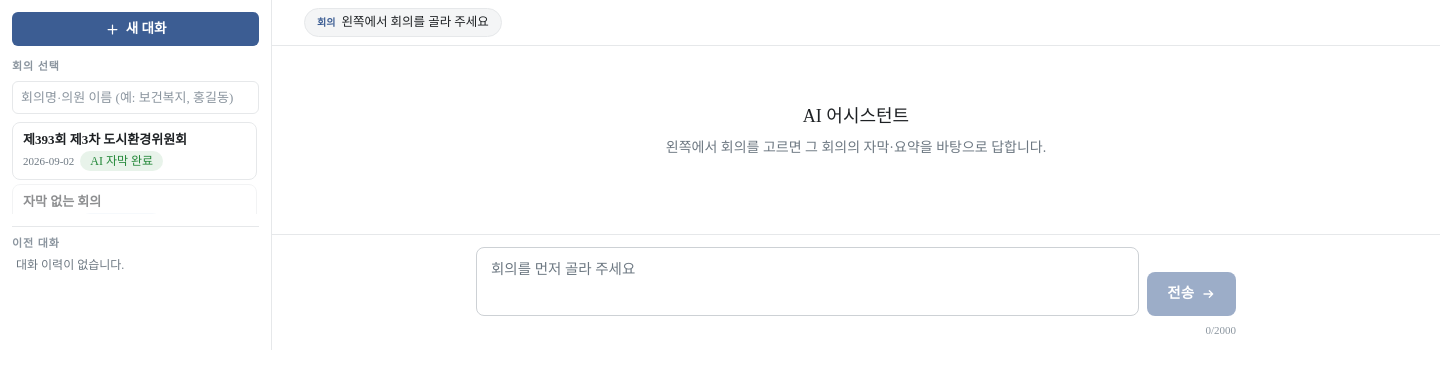
Scenario: AiAssistantPage › selecting a meeting starts a new chat bound to it and shows the brief
Click the text "제393회 제3차 도시환경위원회" at x=105, y=140, box [23, 132, 187, 147]
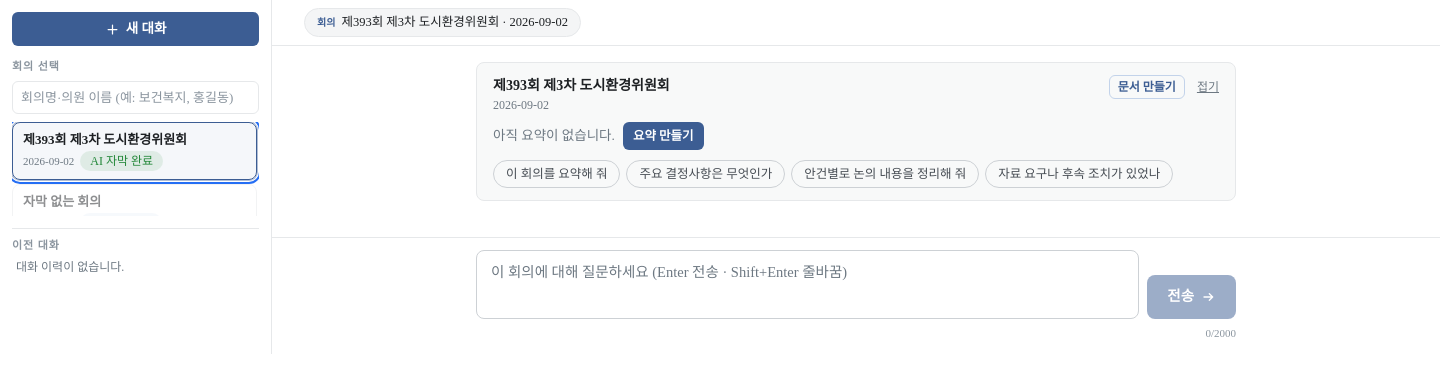
expect the element with test id "ai-context-chip" shows "제393회 제3차 도시환경위원회": met, box [341, 15, 568, 29]
expect the element with test id "ai-meeting-brief" is shown: met, box [476, 62, 1236, 201]
expect the button with test id "ai-brief-generate" is shown: met, box [623, 122, 704, 150]
